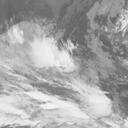cyclone: (23, 36, 84, 108)
